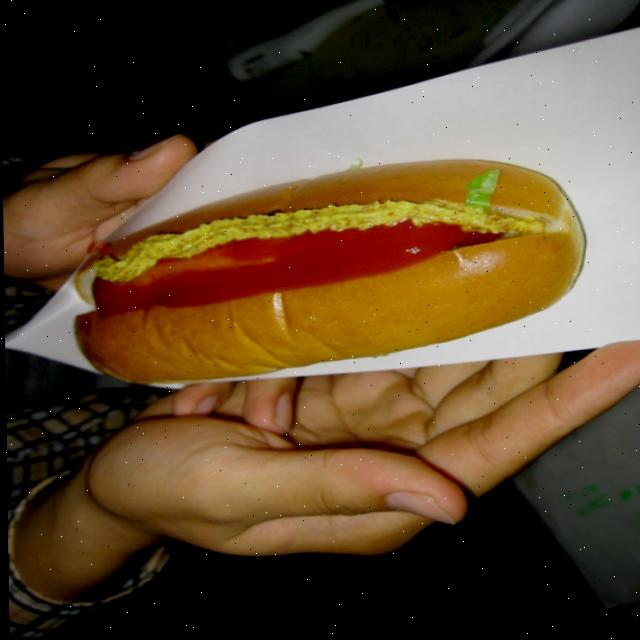三明治: (44, 148, 607, 409)
